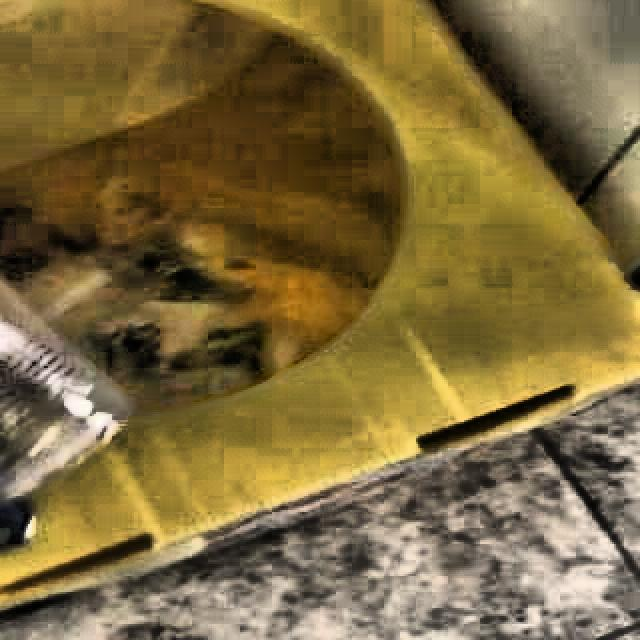plastic: (0, 281, 131, 499)
